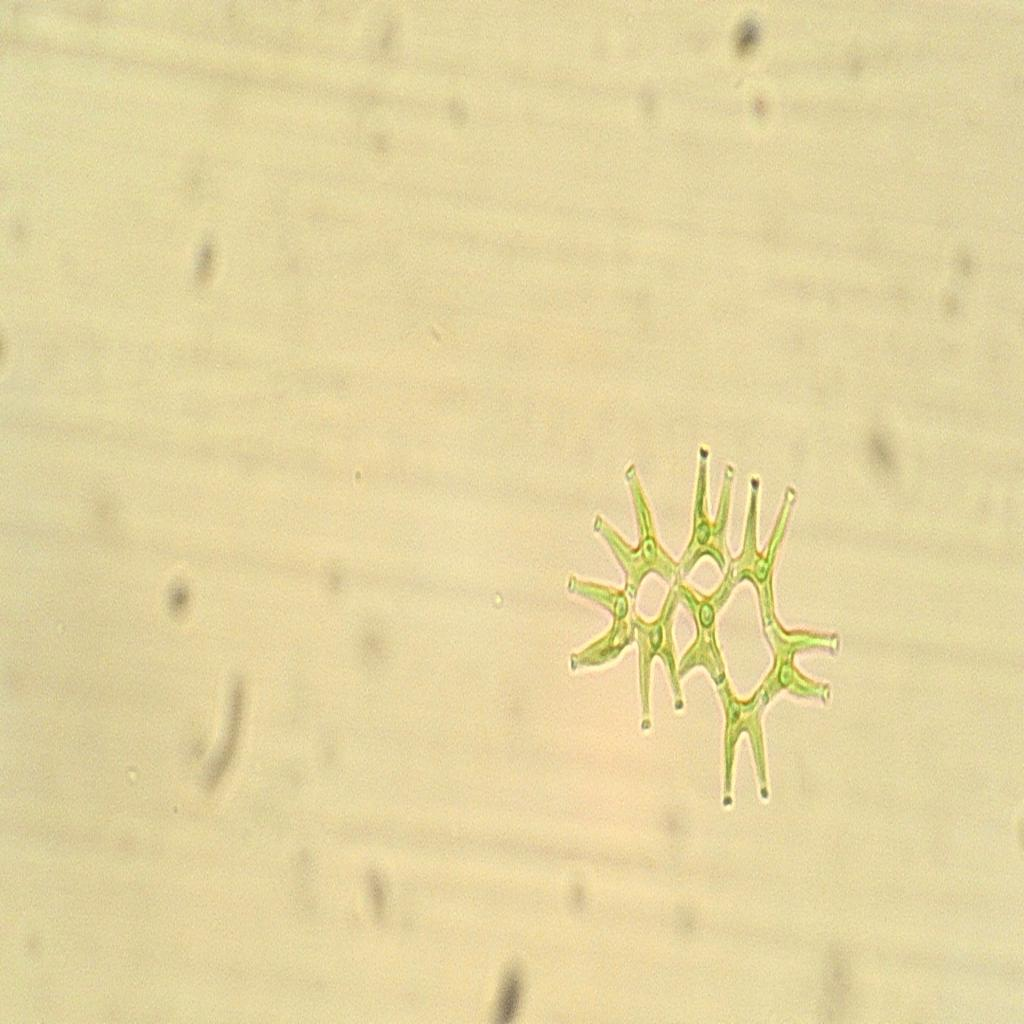Pediastrum_1TH: (542, 396, 862, 853)
